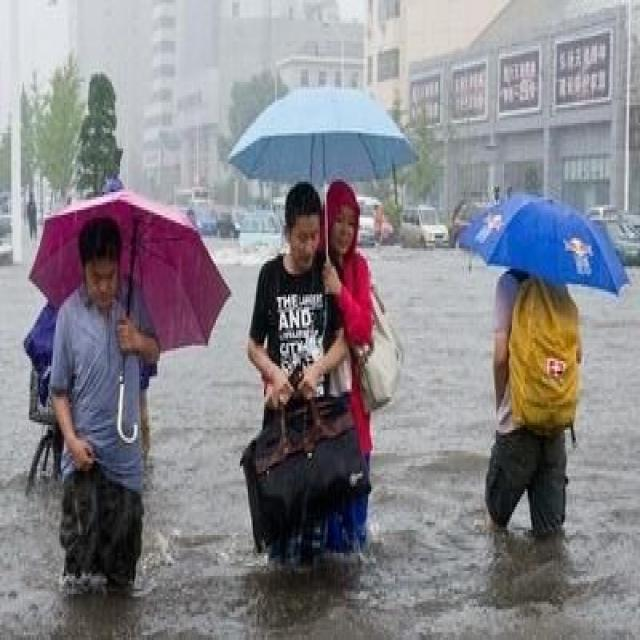car: (232, 197, 285, 256), (398, 202, 448, 246)
